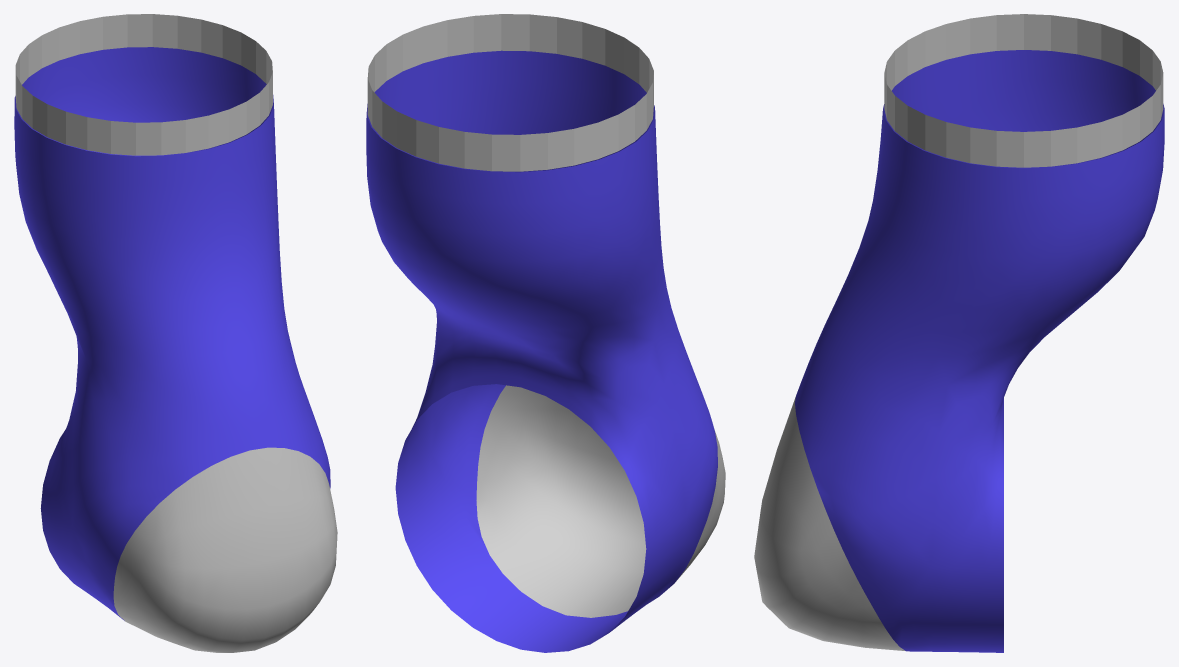
The model's file is arm_seg_2.dae.
3 views of the same model, side by side, from view 1: azimuth 30°, elevation 25°; view 2: azimuth 150°, elevation 25°; view 3: azimuth 270°, elevation 25° (orthographic). The views are drawn at different scales.
Visible parts, largest first — view 1: arm_seg_2; view 2: arm_seg_2; view 3: arm_seg_2.
Part boxes in pixels (x1,y1,x2,y2): arm_seg_2: (14,14,337,652); arm_seg_2: (366,14,725,652); arm_seg_2: (754,14,1164,652).
Bounding box in the file's own units: 0.124 × 0.1765 × 0.269.
